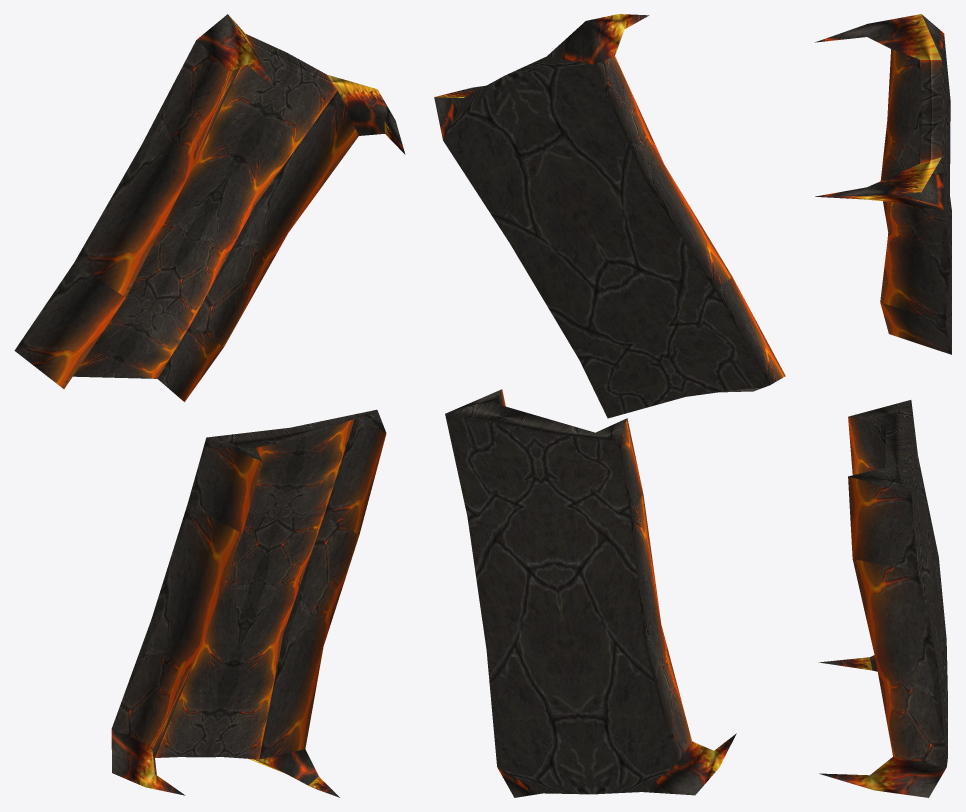
Rendered from bridge-destr_05.obj.
3 views of the same model, side by side, from view 1: azimuth 30°, elevation 25°; view 2: azimuth 150°, elevation 25°; view 3: azimuth 270°, elevation 25° (orthographic). The views are drawn at different scales.
Visible parts, largest first — view 1: (null); view 2: (null); view 3: (null).
Part boxes in pixels (x1,y1,x2,y2): (null): [14, 14, 405, 797]; (null): [434, 14, 785, 797]; (null): [815, 14, 951, 797].
Bounding box in the file's own units: 3.85 × 8.27 × 1.37.
